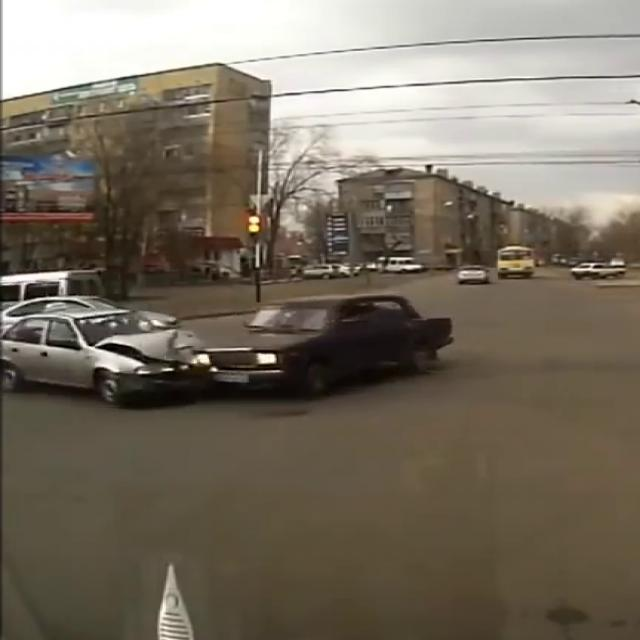accident: (28, 301, 436, 408)
